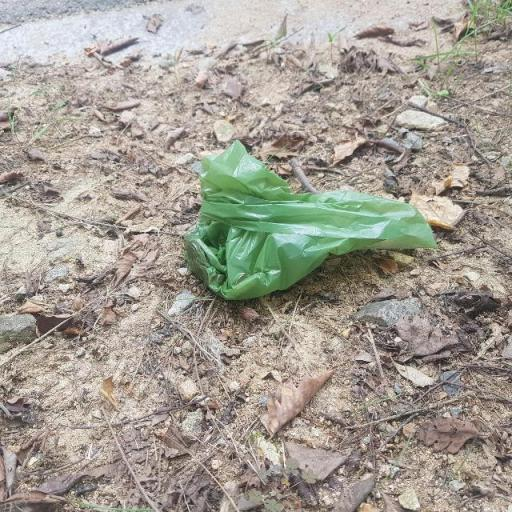plastic-bag: (182, 135, 443, 305)
